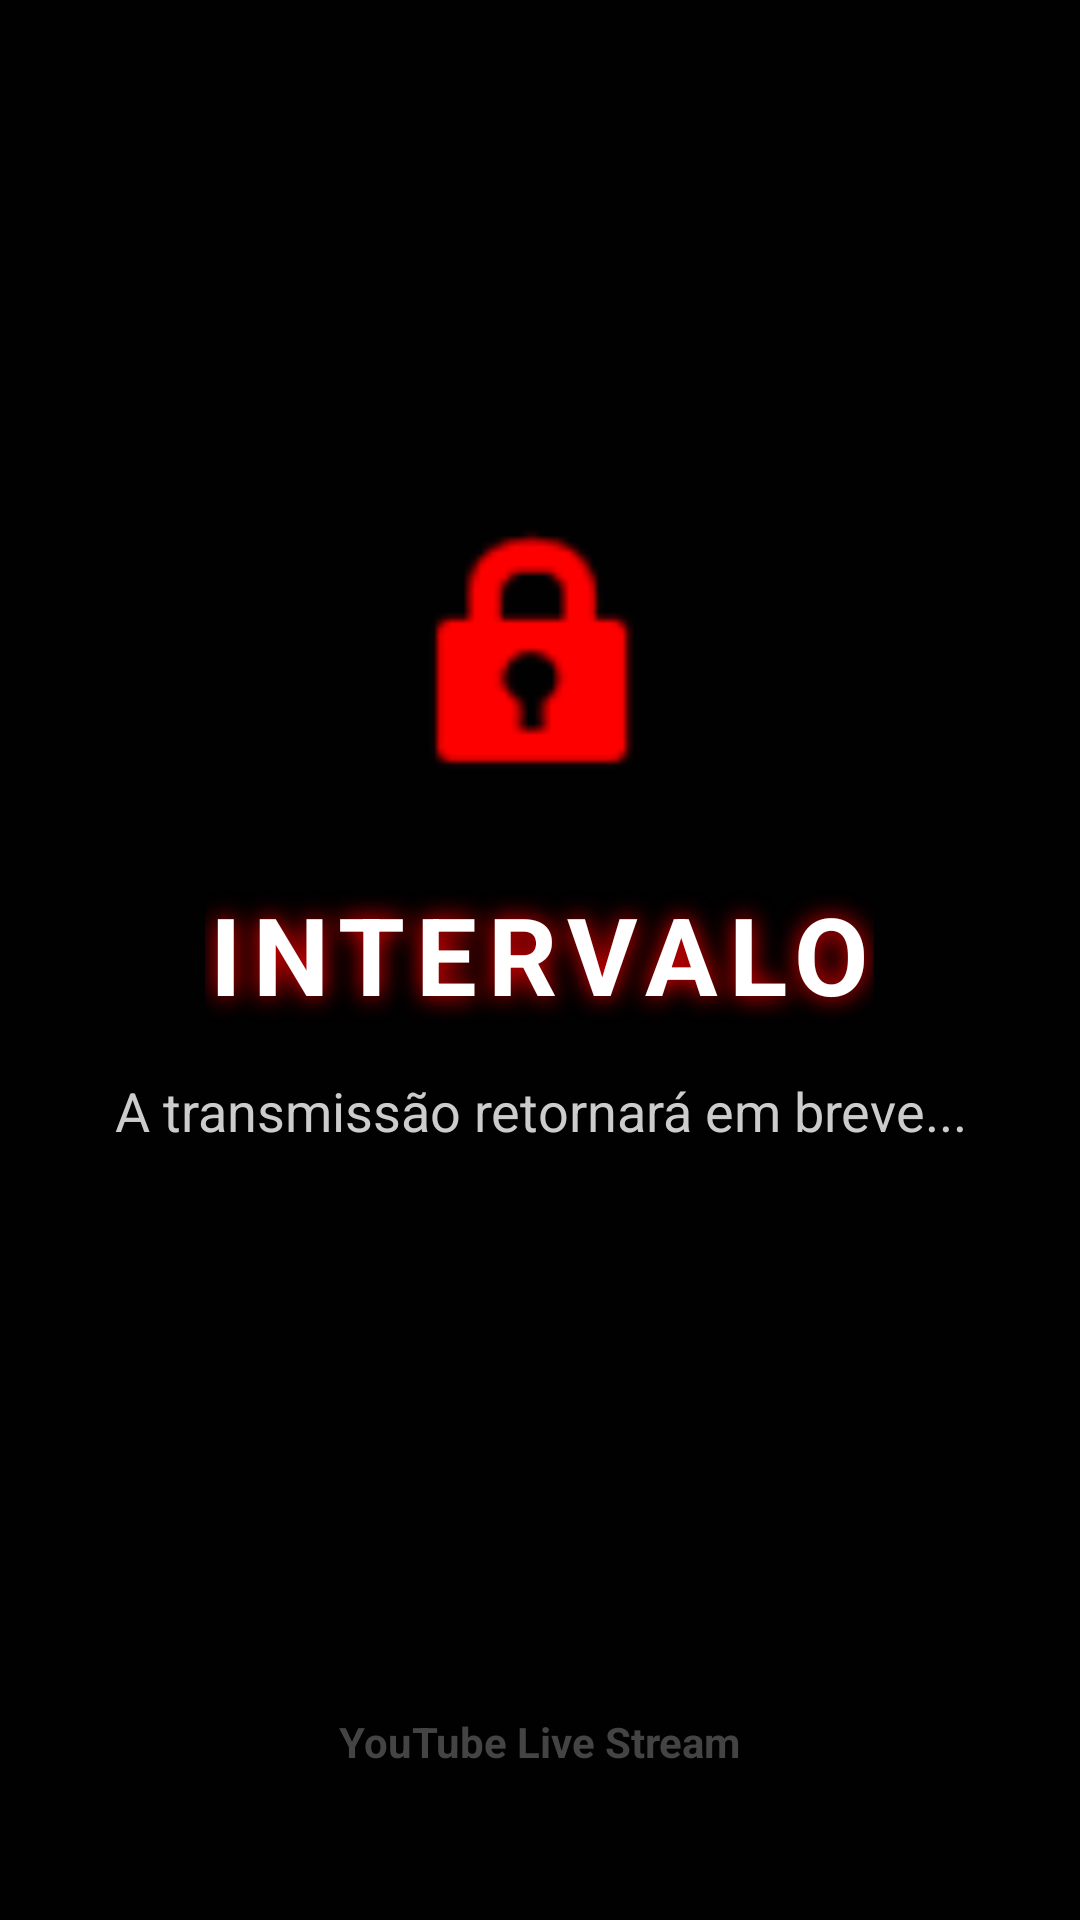

Named icons in this screenshot (1080×1920) and their bounding boxes, (x1, y1, x2, y2):
Bloqueado: (434, 533, 632, 765)
